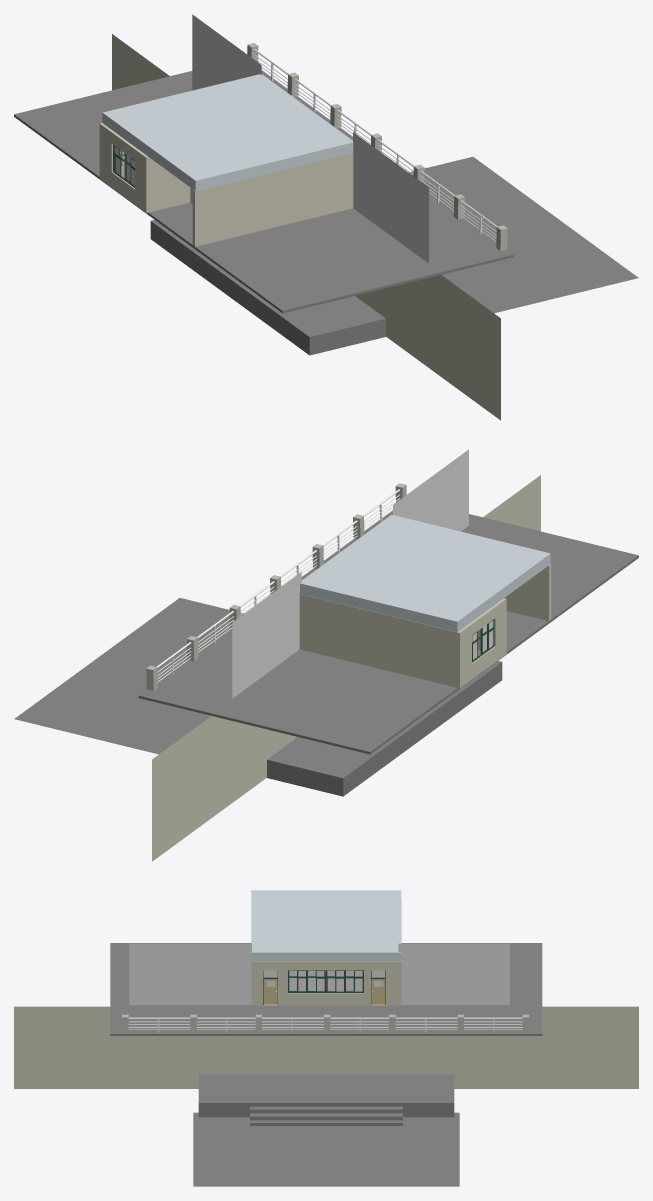
Rendered from classroom1.fbx.
The picture shows the model from 3 angles, top to bottom: view 1: azimuth 30°, elevation 25°; view 2: azimuth 150°, elevation 25°; view 3: azimuth 270°, elevation 25°; orthographic projection. The views are drawn at different scales.
Visible parts, largest first — view 1: Plane.001, Plane.002, Plane.640, Plane.005, Plane.269, Plane.638, Plane.103, Plane.069; view 2: Plane.001, Plane.002, Plane.640, Plane.005, Plane.269, Plane.638, Plane.069, Plane.103; view 3: Plane.269, Plane.640, Plane.001, Plane.002, Plane.638, Plane.103, Plane.069, Plane.005, Plane.639.
Boxes of the visible parts, box(x1,y1,x2,y2) form: Plane.001: box(14, 71, 514, 313); Plane.002: box(102, 74, 353, 191); Plane.640: box(408, 156, 638, 313); Plane.005: box(99, 123, 353, 246); Plane.269: box(112, 34, 500, 420); Plane.638: box(150, 220, 385, 355); Plane.103: box(353, 132, 428, 263); Plane.069: box(192, 14, 261, 90); Plane.001: box(138, 510, 638, 754); Plane.002: box(300, 514, 550, 632); Plane.640: box(14, 598, 244, 754); Plane.005: box(299, 564, 551, 688); Plane.269: box(152, 475, 540, 861); Plane.638: box(267, 661, 502, 796); Plane.069: box(232, 572, 301, 698); Plane.103: box(393, 449, 468, 531); Plane.269: box(14, 1006, 638, 1088); Plane.640: box(193, 1112, 459, 1186); Plane.001: box(110, 943, 542, 1035); Plane.002: box(251, 890, 401, 960); Plane.638: box(198, 1074, 454, 1117); Plane.103: box(129, 943, 251, 1004); Plane.069: box(398, 943, 509, 1004); Plane.005: box(251, 898, 401, 1005); Plane.639: box(250, 1106, 402, 1125).
Bounding box in the file's own units: 5236 × 2209 × 8607.
